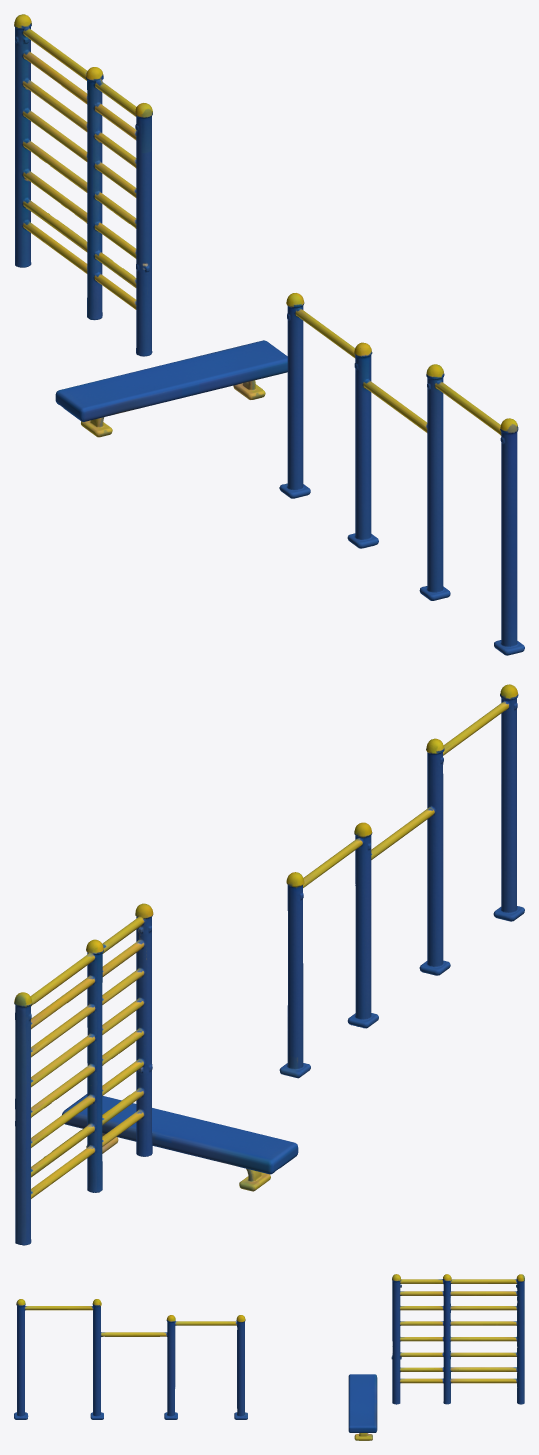
The model's file is OutdoorGymDraco.glb.
3 renders of one model, top to bottom at view 1: azimuth 30°, elevation 25°; view 2: azimuth 150°, elevation 25°; view 3: azimuth 270°, elevation 25°, orthographic. The views are drawn at different scales.
Parts seen in each view (by area): view 1: texture_pbr_v128; view 2: texture_pbr_v128; view 3: texture_pbr_v128.
Part boxes in pixels (left/top/right/bottom): texture_pbr_v128: left=14, top=14, right=524, bottom=655; texture_pbr_v128: left=14, top=684, right=524, bottom=1245; texture_pbr_v128: left=14, top=1274, right=524, bottom=1440.
Size of the model in its own units: 0.2824 by 0.3627 by 1.15.
1 material, 1 textured.
